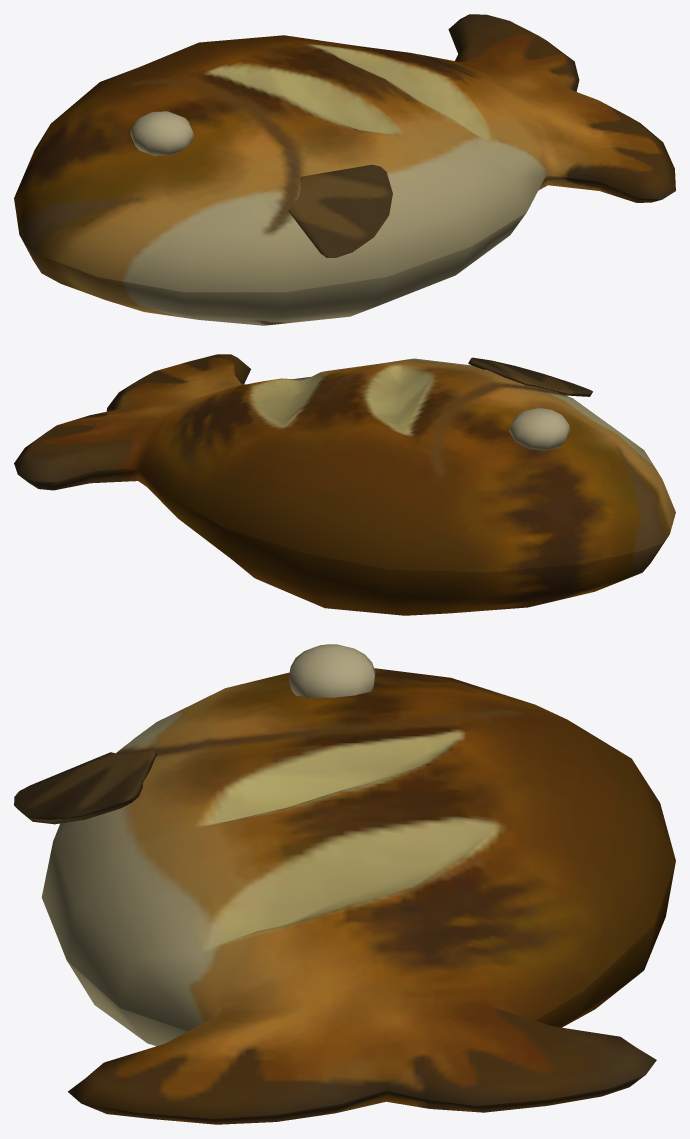
File: Fish.fbx
3 renders of one model, top to bottom at view 1: azimuth 30°, elevation 25°; view 2: azimuth 150°, elevation 25°; view 3: azimuth 270°, elevation 25°, orthographic. The views are drawn at different scales.
Visible parts, largest first — view 1: CharmFish1__MI_CharmFish_01; view 2: CharmFish1__MI_CharmFish_01; view 3: CharmFish1__MI_CharmFish_01.
Boxes of the visible parts, x1,y1,x2,y2 form: CharmFish1__MI_CharmFish_01: (14,14,675,325); CharmFish1__MI_CharmFish_01: (14,354,675,615); CharmFish1__MI_CharmFish_01: (14,644,675,1124).
Size of the model in its own units: 113 by 35.52 by 77.49.
Materials: 1 (1 with a texture image).
